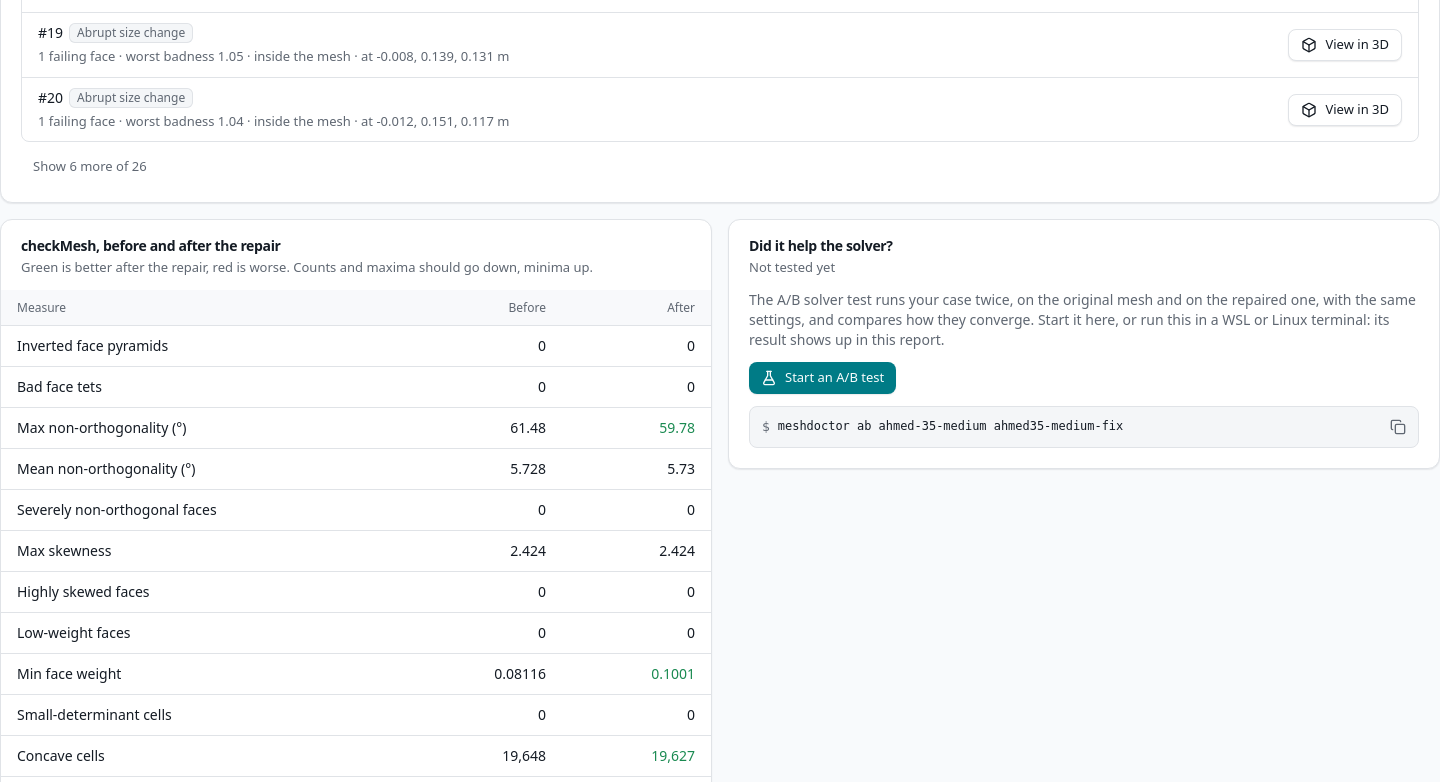
Scenario: a repair's report on your own engine › starts an A/B test of a run that has none, or gives its command, with the names filled in
(page scrolled)
Expected: the heading "Did it help the solver?" is shown, [749,236,893,256]
Expected: the text "Not tested yet" is shown, [749,258,835,276]
Click the button "Start an A/B test" at (823, 378), box [749,362,896,394]
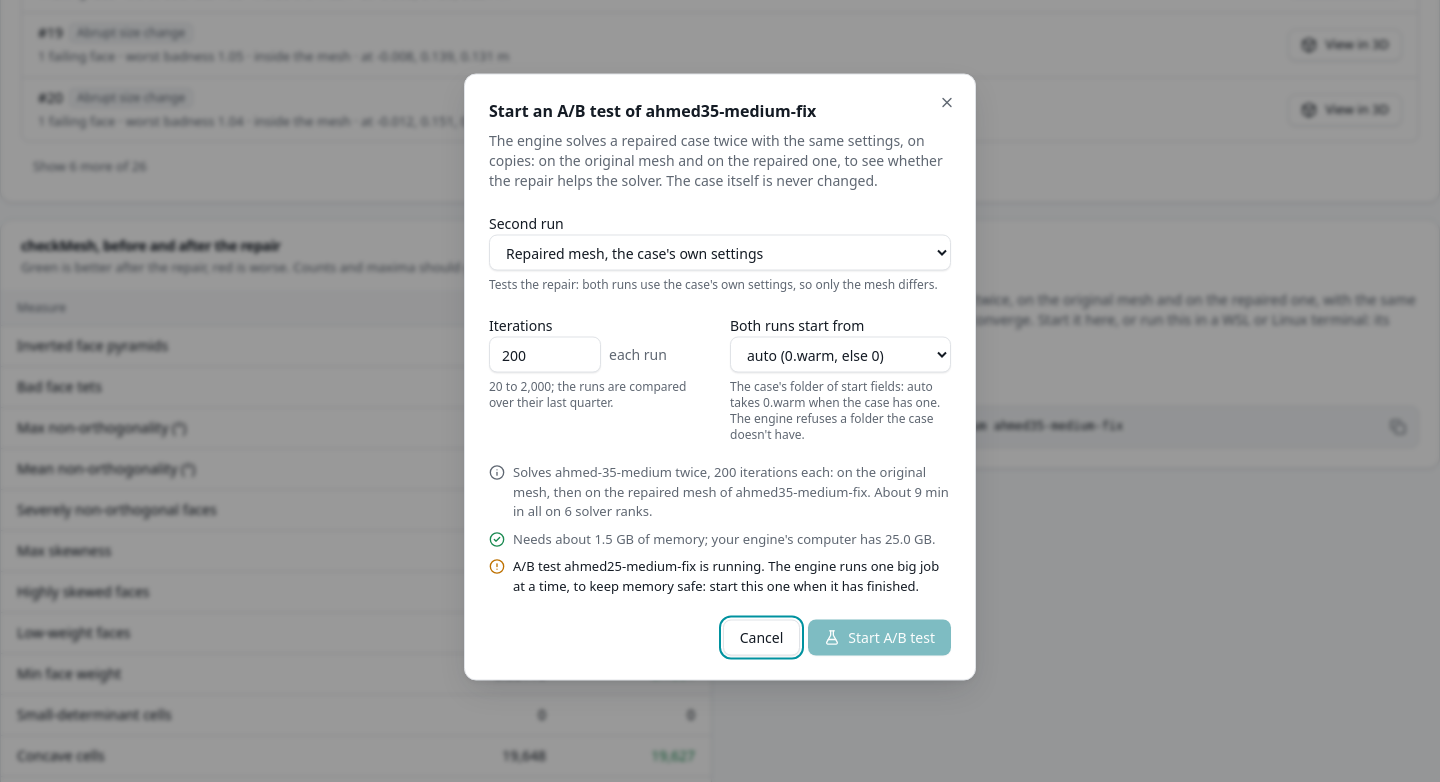
Expected: the heading "Start an A/B test of ahmed35-medium-fix" is shown, [489,100,816,122]
Expected: the text "Solves ahmed-35-medium twice, 200 iterations each" is shown, [513,462,926,500]
